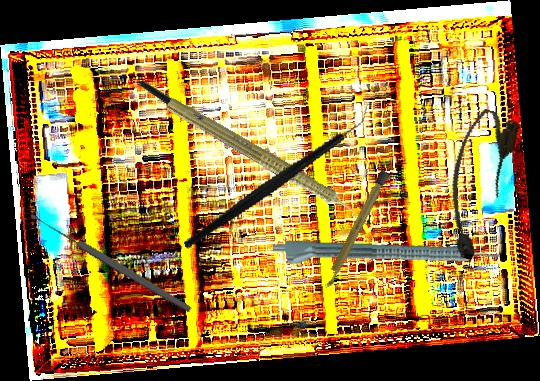Cannula: (430, 105, 523, 263)
Chopper: (137, 34, 315, 232), (161, 101, 394, 250)
Handpiece: (160, 93, 375, 233), (272, 239, 501, 274)
Scalpel Handle: (320, 168, 391, 292)
Surgical Spoon: (27, 209, 194, 315)
